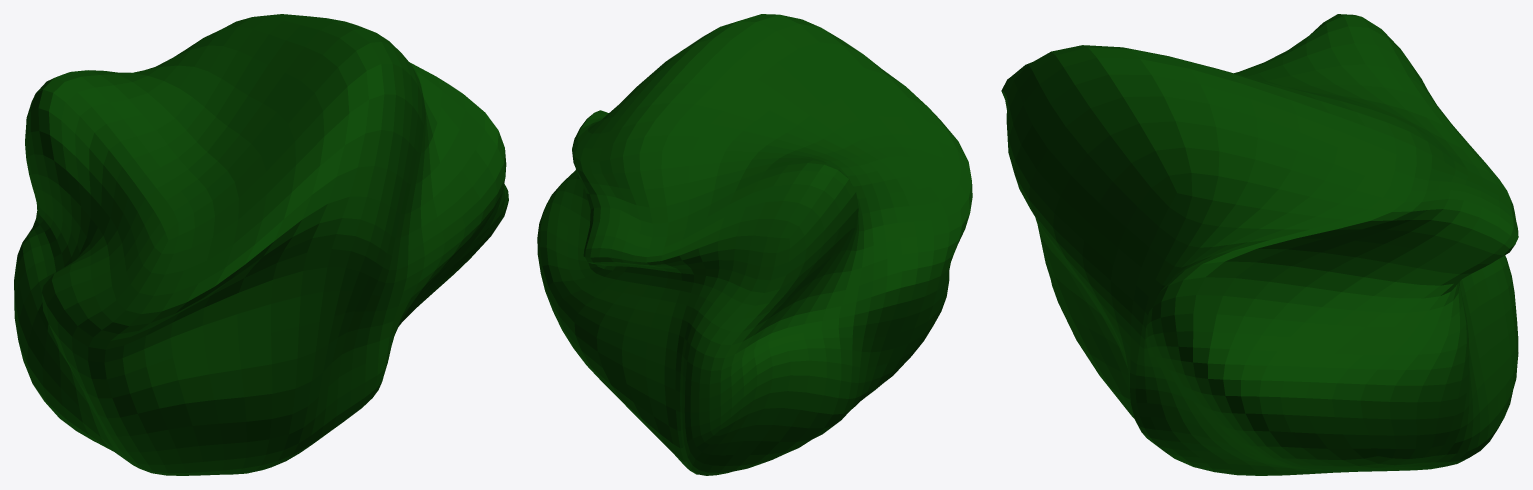
File: kyst.fbx
3 renders of one model, left to right at view 1: azimuth 30°, elevation 25°; view 2: azimuth 150°, elevation 25°; view 3: azimuth 270°, elevation 25°, orthographic. The views are drawn at different scales.
Visible parts, largest first — view 1: Cube.001; view 2: Cube.001; view 3: Cube.001.
Boxes of the visible parts, box(x1,y1,x2,y2) form: Cube.001: box(14, 14, 508, 475); Cube.001: box(537, 14, 972, 475); Cube.001: box(1001, 14, 1518, 475).
Bounding box in the file's own units: 384 × 357 × 358.
